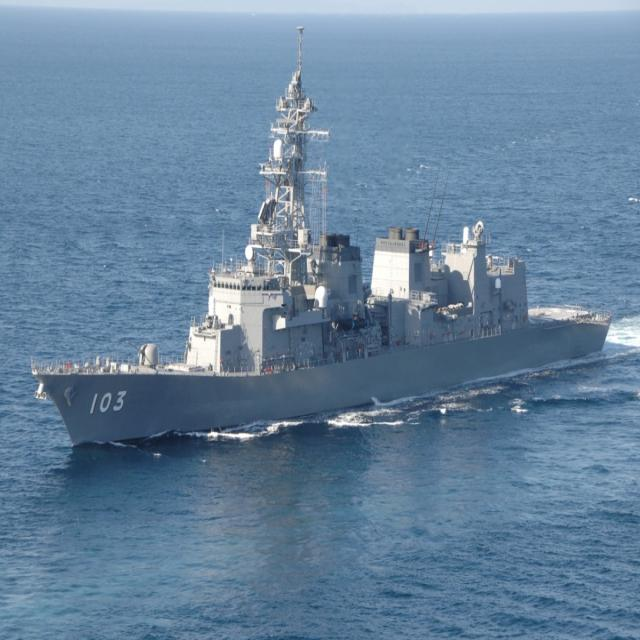navalvessels: (23, 74, 634, 450)
